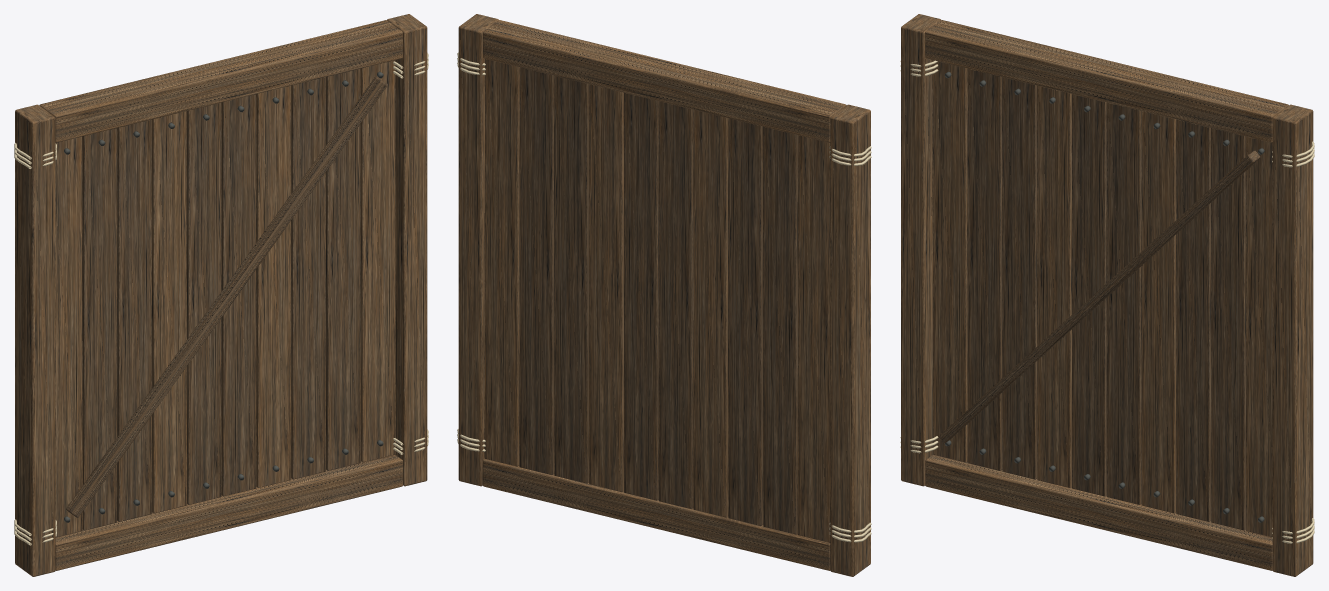
File: wall_solid_2m.glb
3 views of the same model, side by side, from view 1: azimuth 30°, elevation 25°; view 2: azimuth 150°, elevation 25°; view 3: azimuth 330°, elevation 25° (orthographic).
Visible parts, largest first — view 1: wall_solid_2m_mesh; view 2: wall_solid_2m_mesh; view 3: wall_solid_2m_mesh.
Boxes of the visible parts, box(x1,y1,x2,y2) form: wall_solid_2m_mesh: box(14, 14, 428, 576); wall_solid_2m_mesh: box(457, 14, 871, 576); wall_solid_2m_mesh: box(900, 14, 1314, 576).
Size of the model in its own units: 2.06 by 2.2 by 0.1864.
4 materials, 2 textured.
